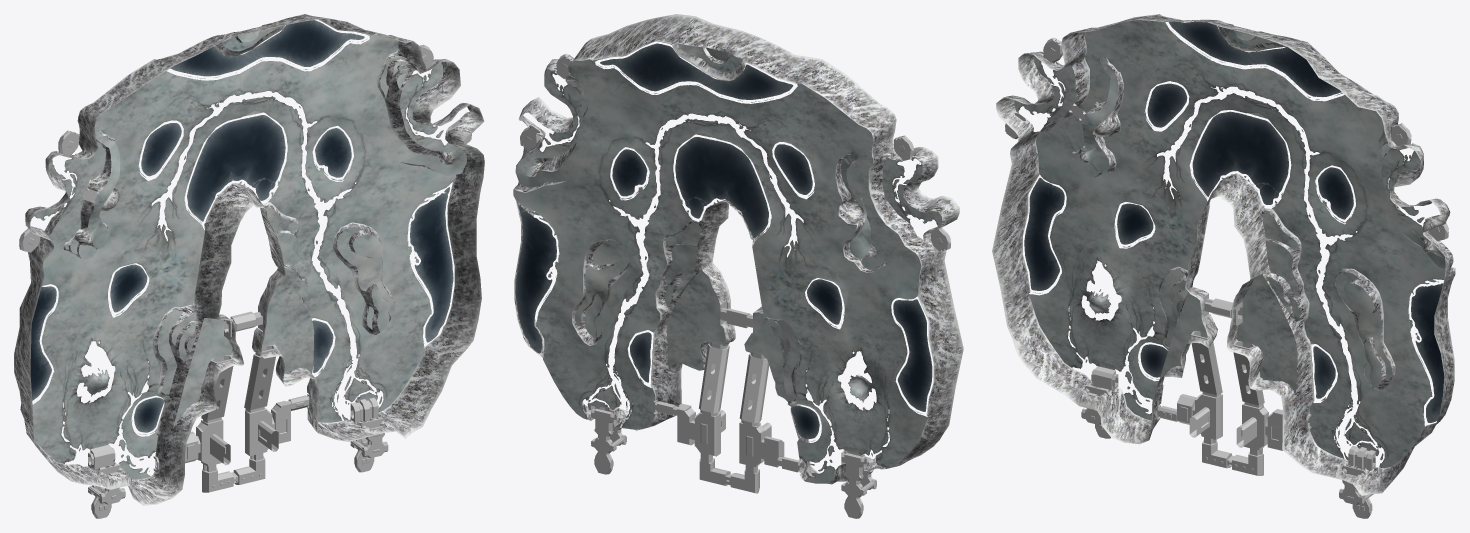
File: sidewinder.obj
3 views of the same model, side by side, from view 1: azimuth 30°, elevation 25°; view 2: azimuth 150°, elevation 25°; view 3: azimuth 330°, elevation 25° (orthographic). The views are drawn at different scales.
Parts seen in each view (by area): view 1: sidewinder; view 2: sidewinder; view 3: sidewinder.
Part boxes in pixels (bbox=[...]): sidewinder: bbox=[14, 14, 484, 518]; sidewinder: bbox=[513, 14, 963, 518]; sidewinder: bbox=[992, 14, 1455, 518].
Bounding box in the file's own units: 10894 × 10964 × 1169.
